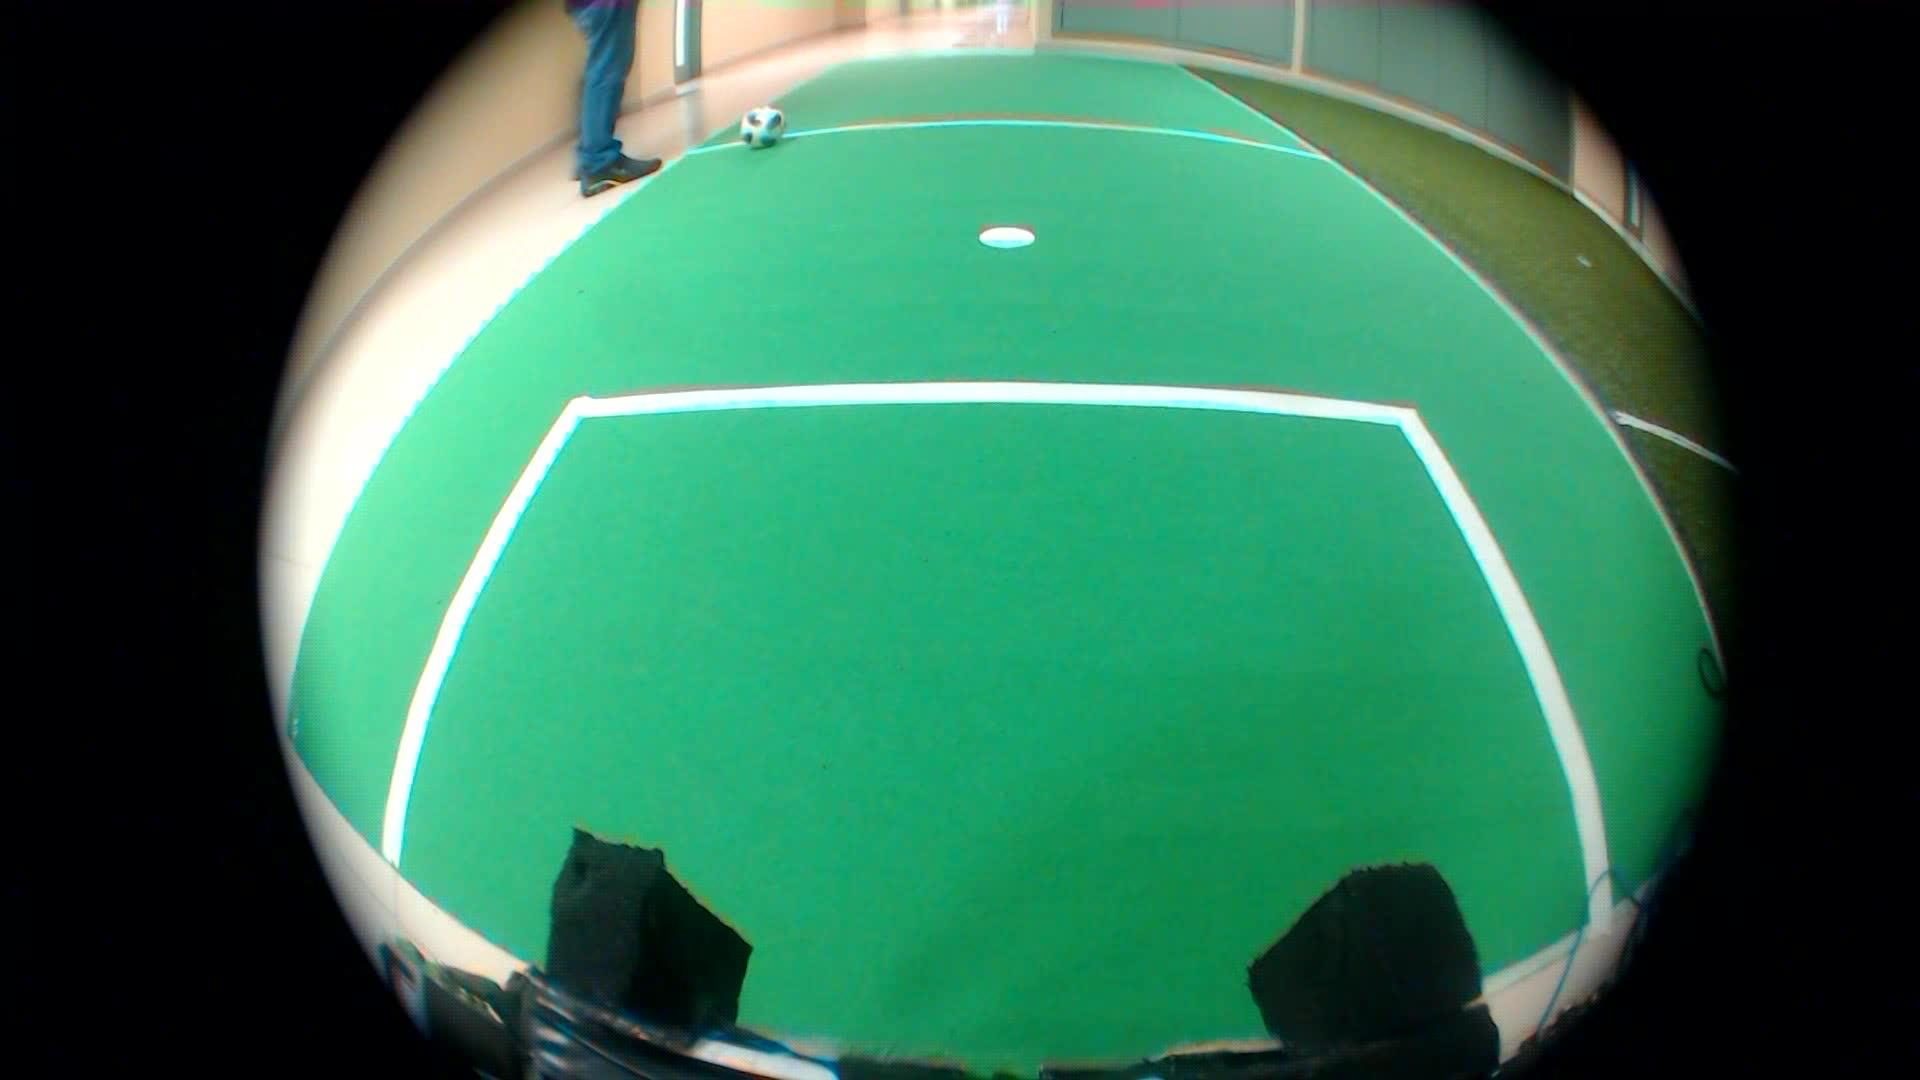ball: (725, 105, 775, 152)
